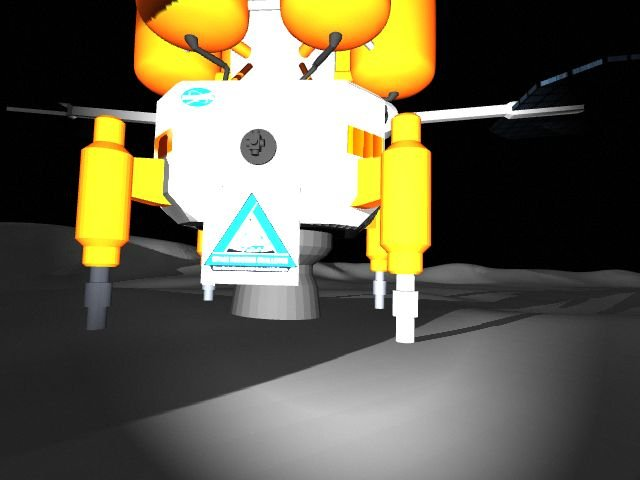basemarker: (203, 191, 299, 274)
